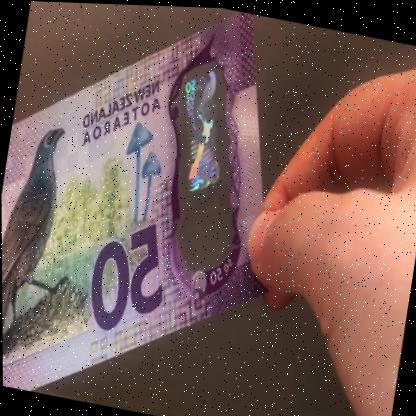50B: (158, 57, 240, 251)
